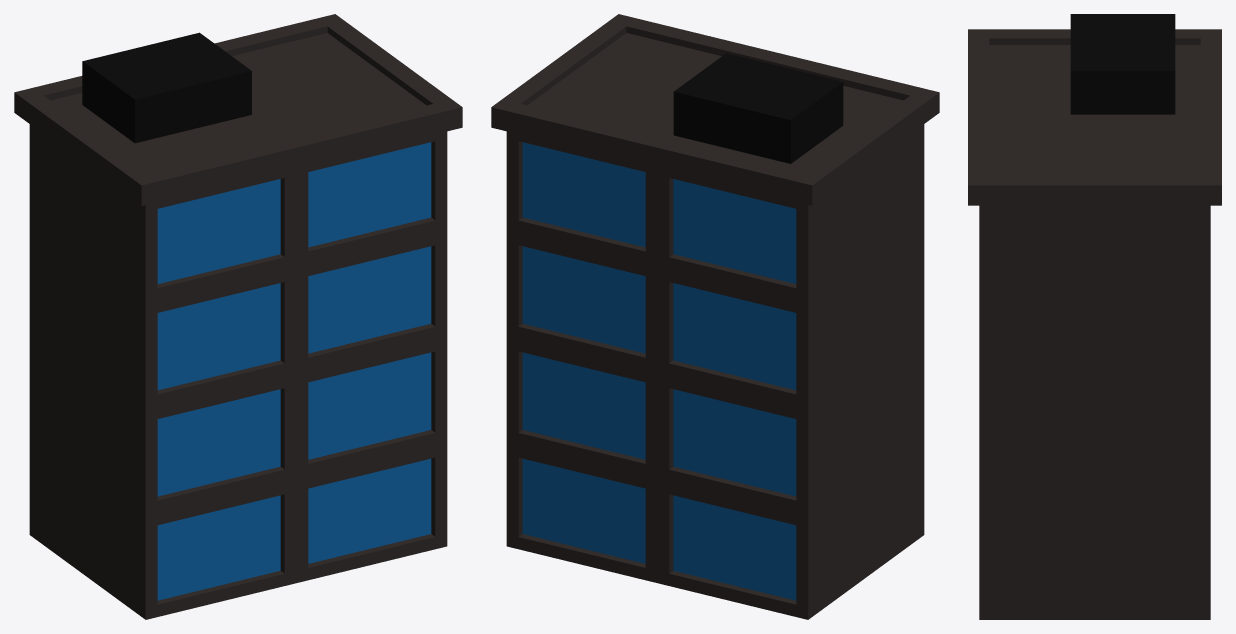
File: House 3.FBX
The picture shows the model from 3 angles, left to right: view 1: azimuth 30°, elevation 25°; view 2: azimuth 150°, elevation 25°; view 3: azimuth 270°, elevation 25°; orthographic projection.
Visible parts, largest first — view 1: House 3; view 2: House 3; view 3: House 3.
Boxes of the visible parts, box(x1,y1,x2,y2) form: House 3: box(14, 14, 462, 619); House 3: box(491, 14, 939, 619); House 3: box(968, 14, 1221, 619).
Size of the model in its own units: 31.95 by 45.49 by 21.95.
